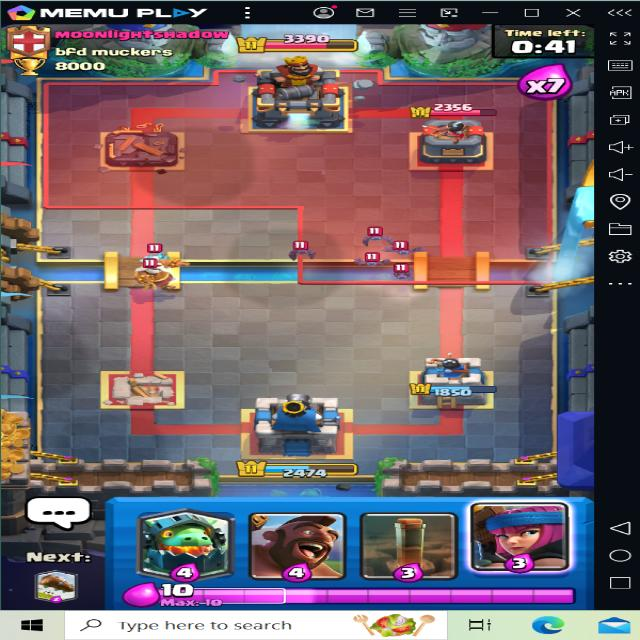bats: (288, 240, 325, 263), (383, 262, 425, 282), (390, 237, 430, 258), (358, 225, 391, 246), (360, 248, 390, 268)
ice-spirit: (134, 250, 180, 265)
monk: (121, 254, 194, 292)
